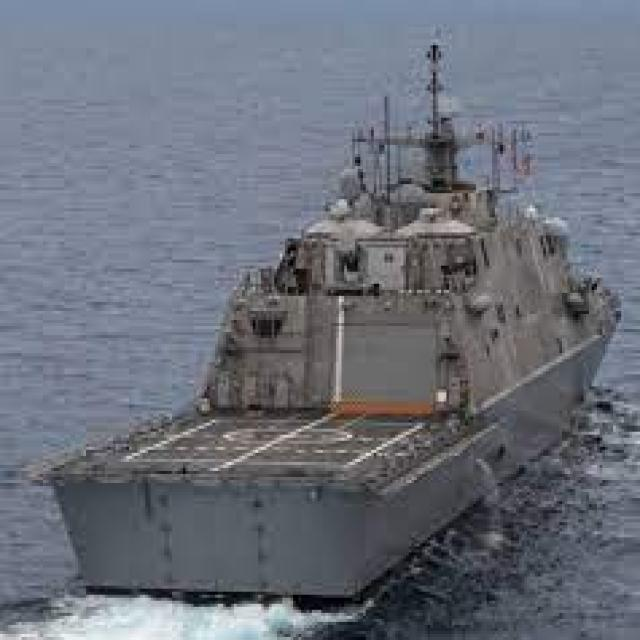navalvessels: (30, 39, 622, 606)
